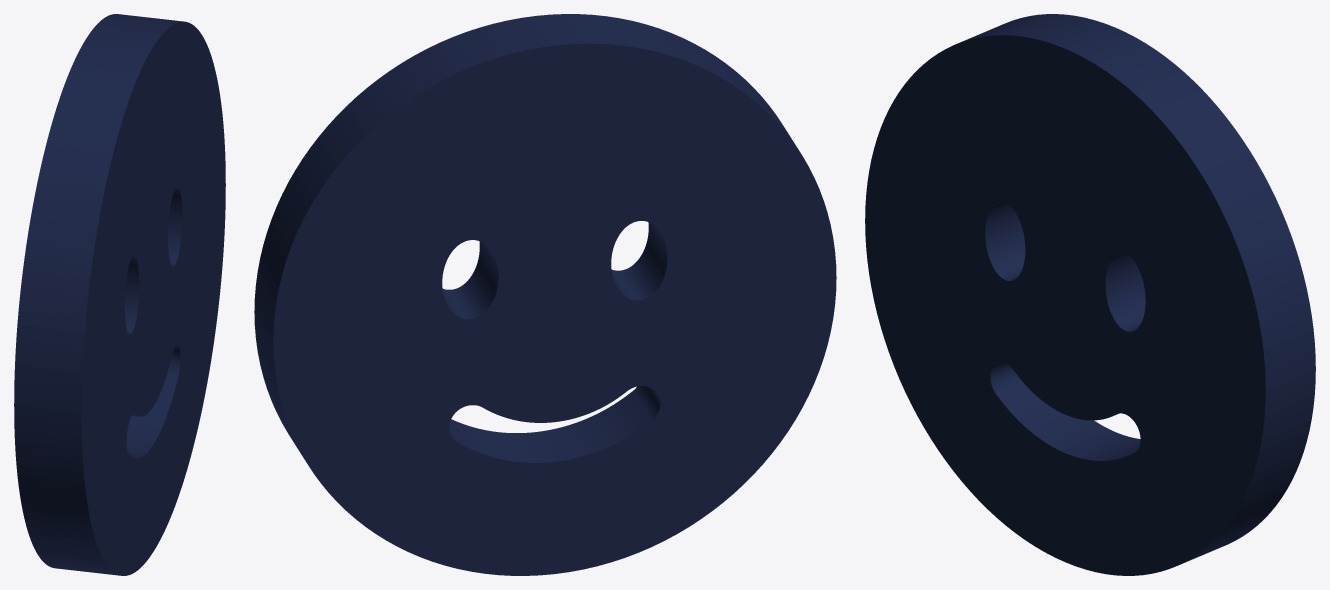
Rendered from smile-circle-svgrepo-com.gltf.
The picture shows the model from 3 angles, left to right: view 1: azimuth 30°, elevation 25°; view 2: azimuth 150°, elevation 25°; view 3: azimuth 270°, elevation 25°; orthographic projection. The views are drawn at different scales.
Bounding box in the file's own units: 66.29 × 83.33 × 66.29.
